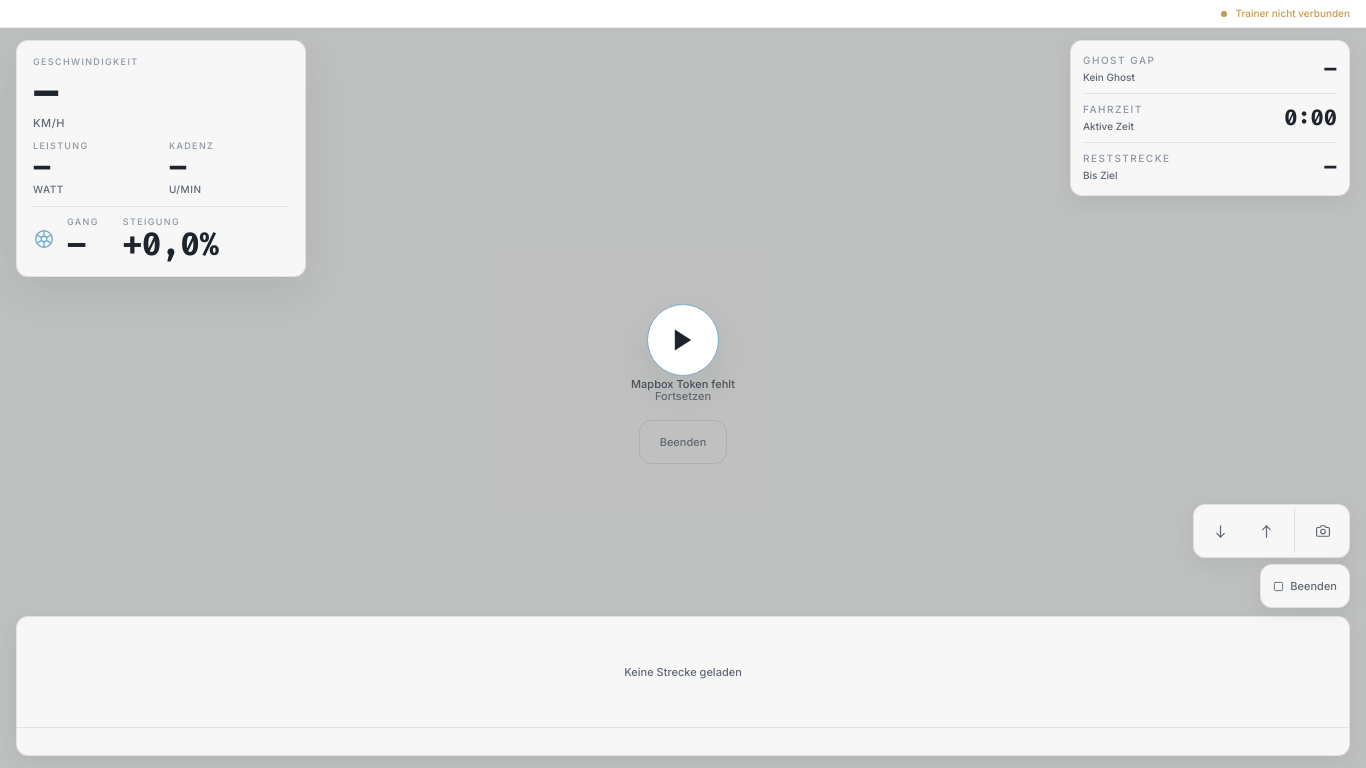
EndRideConfirmation - focus management › cancel button receives focus when dialog opens
Step 1. Click the button with test id "end-ride-paused" → (683, 442), box [639,420,727,464]
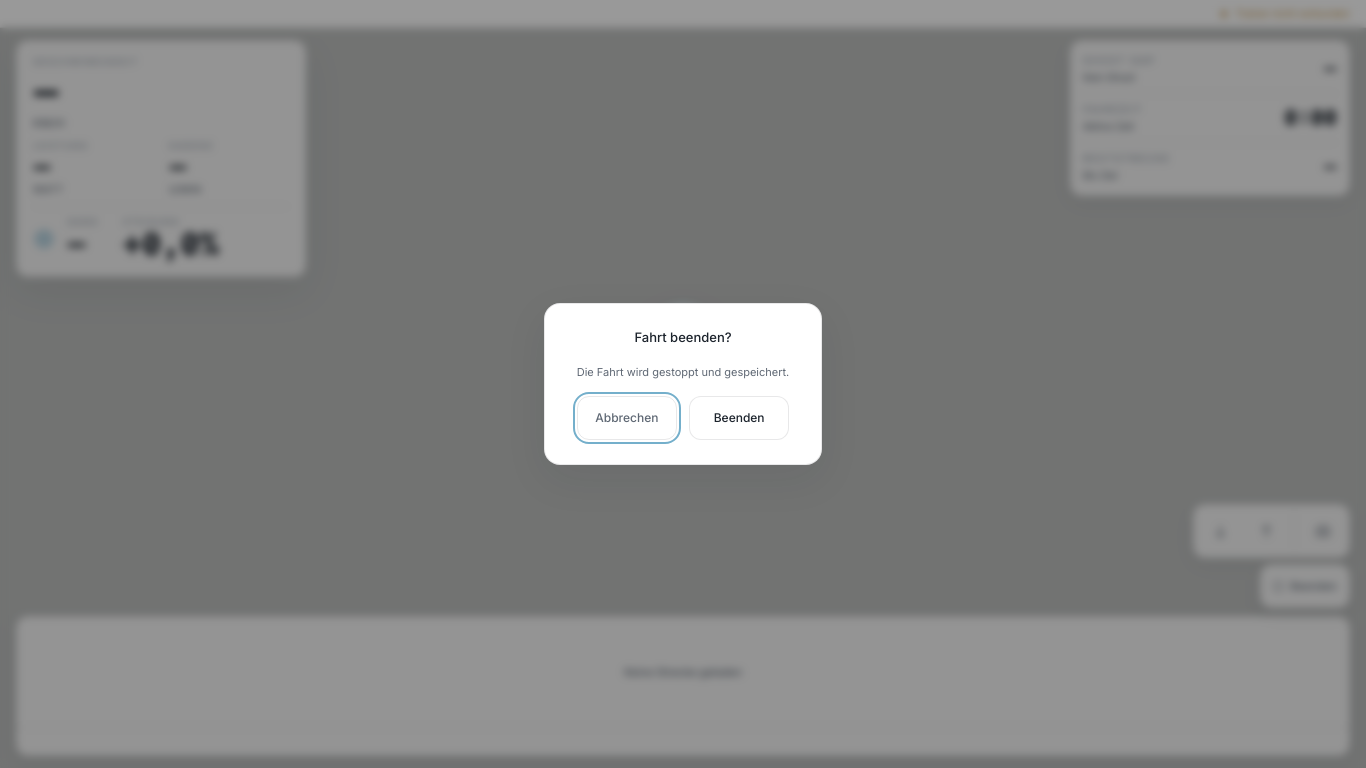
Expected: the button "Abbrechen" is shown, [577,396,677,440]
